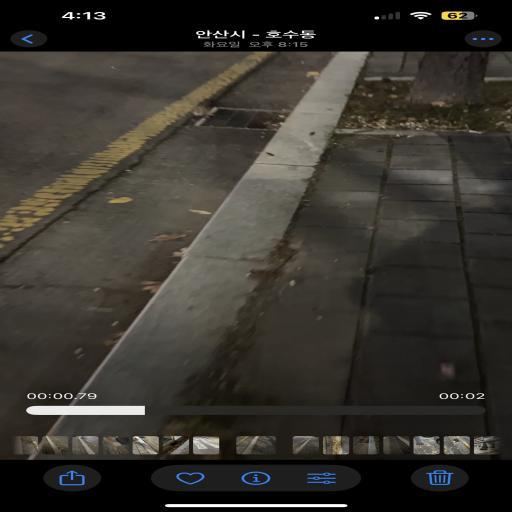debris: (265, 121, 279, 129), (279, 114, 285, 118)
drain: (192, 107, 290, 130)
